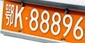K: (14, 6, 24, 29)
